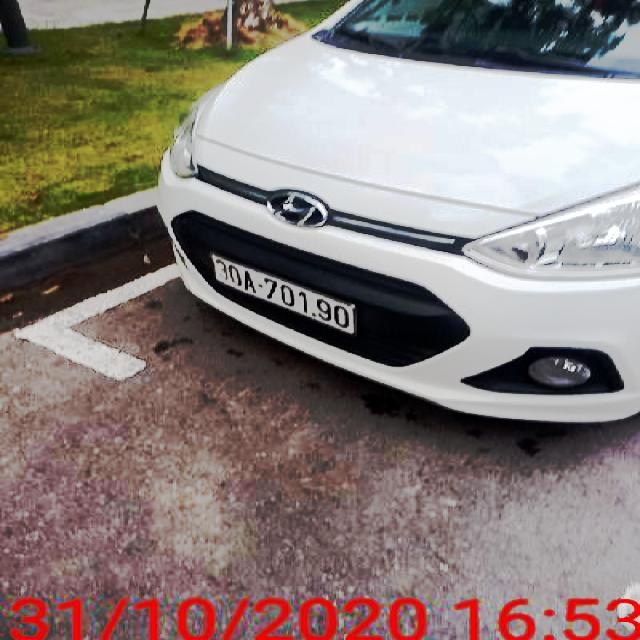license_plate: (213, 256, 357, 337)
